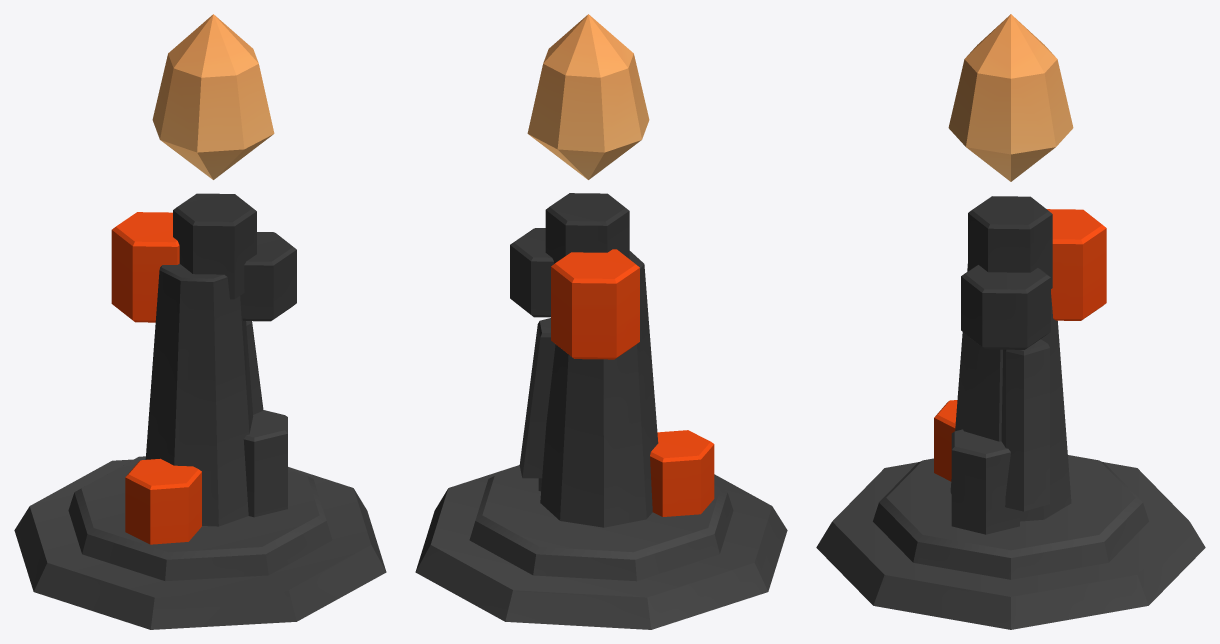
Rendered from Magic Tower 1.fbx.
3 views of the same model, side by side, from view 1: azimuth 30°, elevation 25°; view 2: azimuth 150°, elevation 25°; view 3: azimuth 270°, elevation 25° (orthographic).
Visible parts, largest first — view 1: MagicTower_Lv1, Stone1; view 2: MagicTower_Lv1, Stone1; view 3: MagicTower_Lv1, Stone1.
Boxes of the visible parts, <box> form: MagicTower_Lv1: <box>14,193,386,629</box>; Stone1: <box>152,14,274,179</box>; MagicTower_Lv1: <box>415,193,787,629</box>; Stone1: <box>527,14,649,179</box>; MagicTower_Lv1: <box>816,196,1205,629</box>; Stone1: <box>948,14,1073,181</box>.
Size of the model in its own units: 1.28 by 1.99 by 1.28.
1 material, 1 textured.
